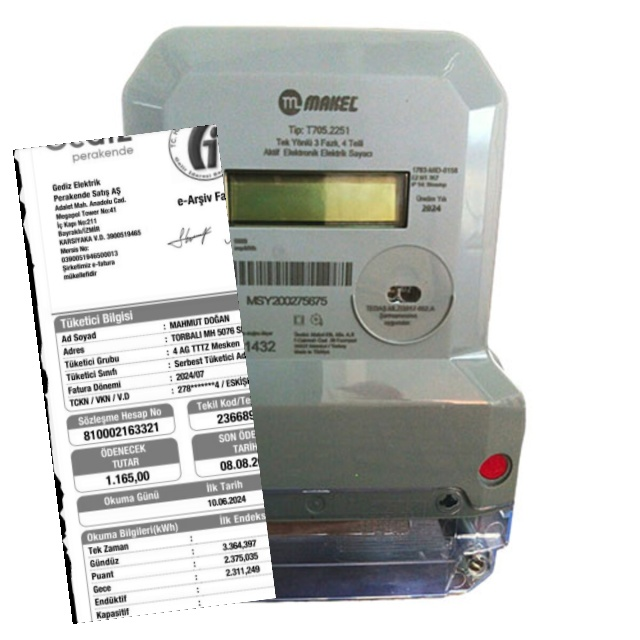electricity-bill: (12, 124, 276, 624)
